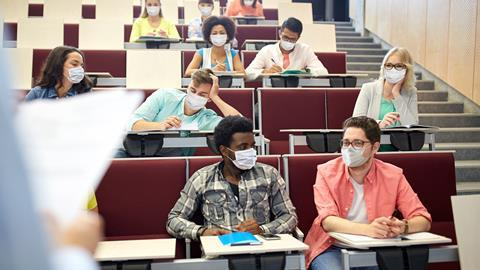with_mask: (229, 134, 260, 169), (56, 53, 89, 85), (342, 134, 369, 165), (382, 57, 404, 82), (188, 81, 207, 108), (280, 29, 297, 51), (208, 27, 229, 44), (145, 1, 163, 18), (199, 1, 212, 17)
